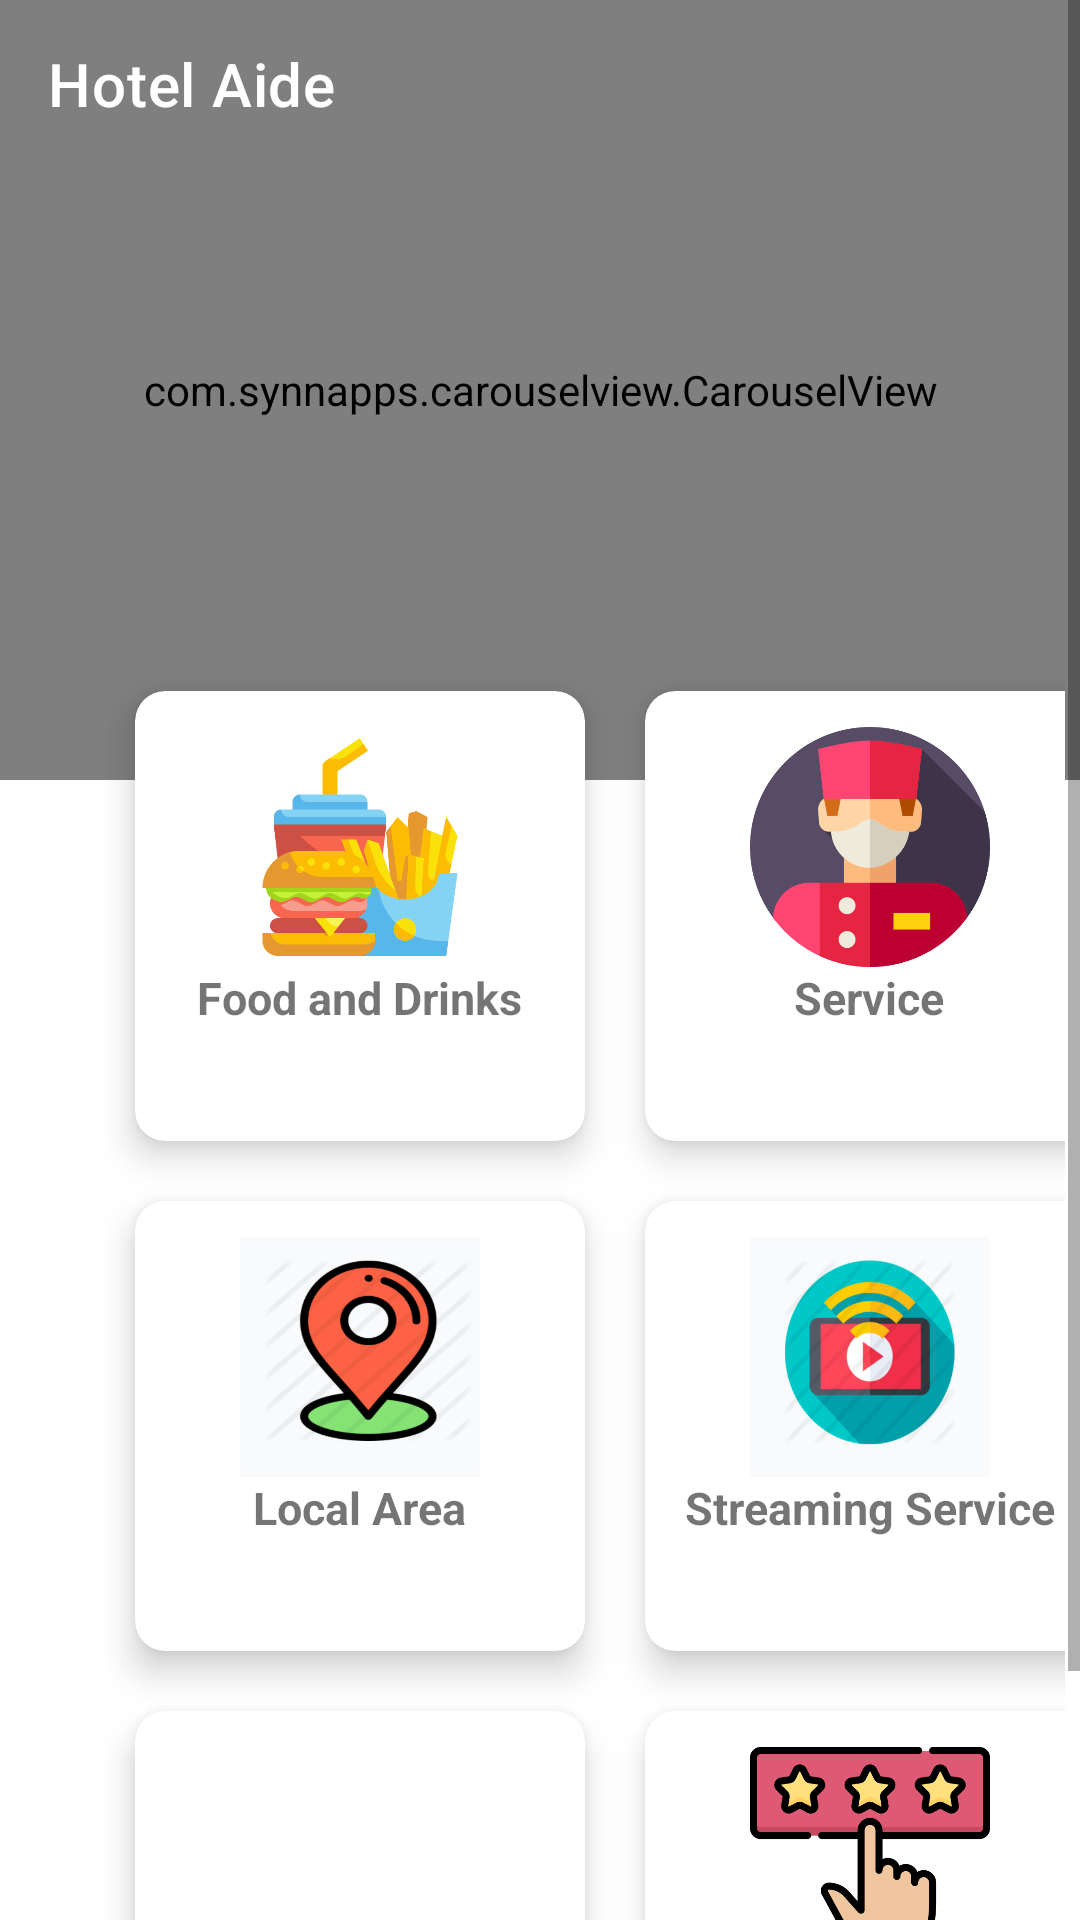

Point at icon controls on the screen. Image size 1080px x 1920px, points as (x=x, y=y).
bellboy: (x=870, y=847)
fastfood: (x=360, y=847)
loc: (x=368, y=1350)
